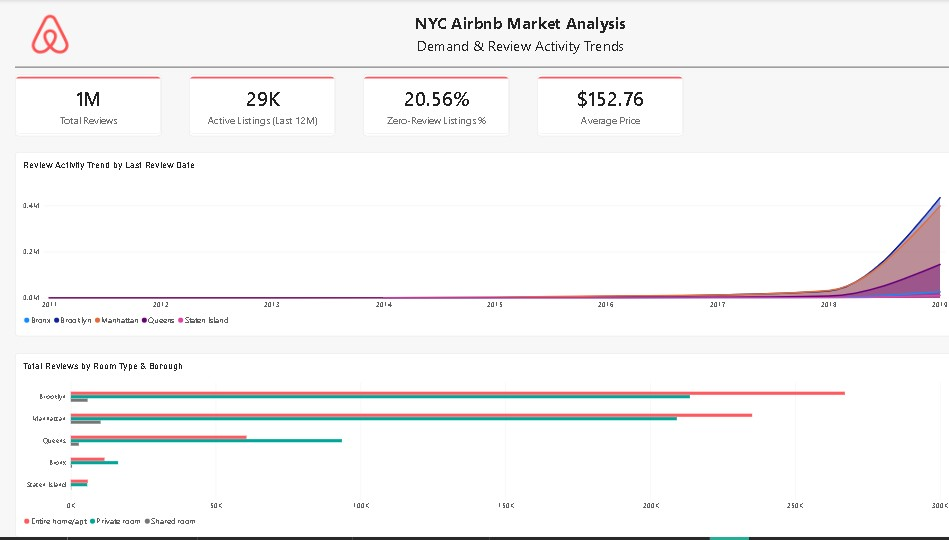

The dashboard page shown, as its layout file describes it:
{"tool":"powerbi","page":{"name":"Demand & Review Activity Trends","canvas":[1920,1080],"ordinal":3},"visuals":[{"type":"image","box":[30,25,141.1,92.5],"z":0,"group":"g1"},{"type":"shape","box":[30,130,1890,12.5],"z":0},{"type":"group","id":"g1","title":"Group 2","box":[30,25,1890,105],"z":1000},{"type":"textbox","box":[171.1,25,1748.9,50],"z":1000,"group":"g1"},{"type":"textbox","box":[171.1,75,1748.9,55],"z":2000,"group":"g1"},{"type":"cardVisual","title":"grege","fields":{"Data":["_Measures.Total Reviews"]},"box":[30,150,294,125],"z":2000},{"type":"cardVisual","title":"grege","fields":{"Data":["_Measures.Average Price"]},"box":[1077.5,150,294,125],"z":3000},{"type":"cardVisual","title":"grege","fields":{"Data":["_Measures.Zero-Review Listings %"]},"box":[728.3,150,294,125],"z":4000},{"type":"cardVisual","title":"grege","fields":{"Data":["_Measures.Active Listings (Last 12M)"]},"box":[379.2,150,294,125],"z":5000},{"type":"areaChart","title":"Review Activity Trend by Last Review Date","fields":{"Category":["cleaned_df.last_review.Variation.Date Hierarchy.Year","cleaned_df.last_review.Variation.Date Hierarchy.Month"],"Series":["cleaned_df.neighbourhood_group"],"Y":["_Measures.Total Reviews"]},"box":[30,306.7,1890,370],"z":5001},{"type":"clusteredBarChart","title":"Total Reviews by Room Type & Borough","fields":{"Category":["cleaned_df.neighbourhood_group"],"Series":["cleaned_df.room_type"],"Y":["_Measures.Total Reviews"]},"box":[30,710,1890,370],"z":5002}]}

Visuals, with their boxes in screenshot pixels (x1, y1, x2, y2), scaled from the page's 1920x1080 canvas onto the 949x540 screenshot:
image: l=15, t=12, r=85, b=59
shape: l=15, t=65, r=948, b=71
"Group 2" group: l=15, t=12, r=948, b=65
textbox: l=85, t=12, r=948, b=38
textbox: l=85, t=38, r=948, b=65
"grege" cardVisual: l=15, t=75, r=160, b=138
"grege" cardVisual: l=533, t=75, r=678, b=138
"grege" cardVisual: l=360, t=75, r=505, b=138
"grege" cardVisual: l=187, t=75, r=333, b=138
"Review Activity Trend by Last Review Date" areaChart: l=15, t=153, r=948, b=338
"Total Reviews by Room Type & Borough" clusteredBarChart: l=15, t=355, r=948, b=539
